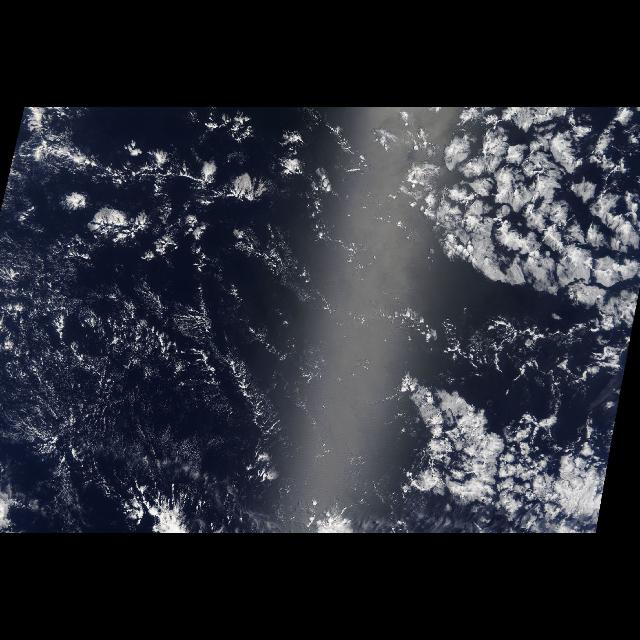Flower: (385, 108, 637, 324), (48, 118, 312, 268)
Sugar: (2, 287, 310, 489)
